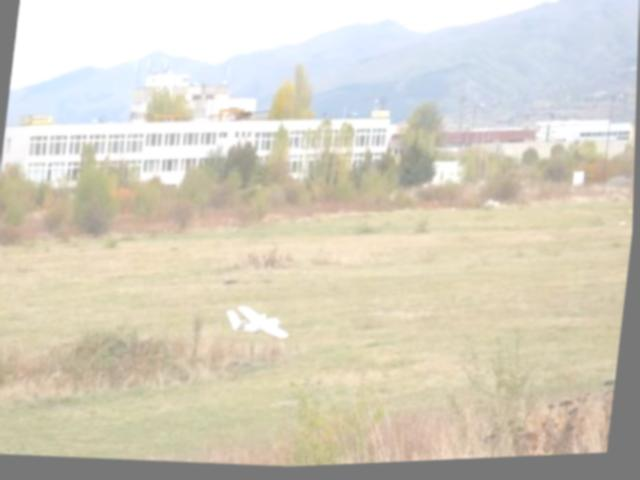uav: (218, 290, 299, 353)
